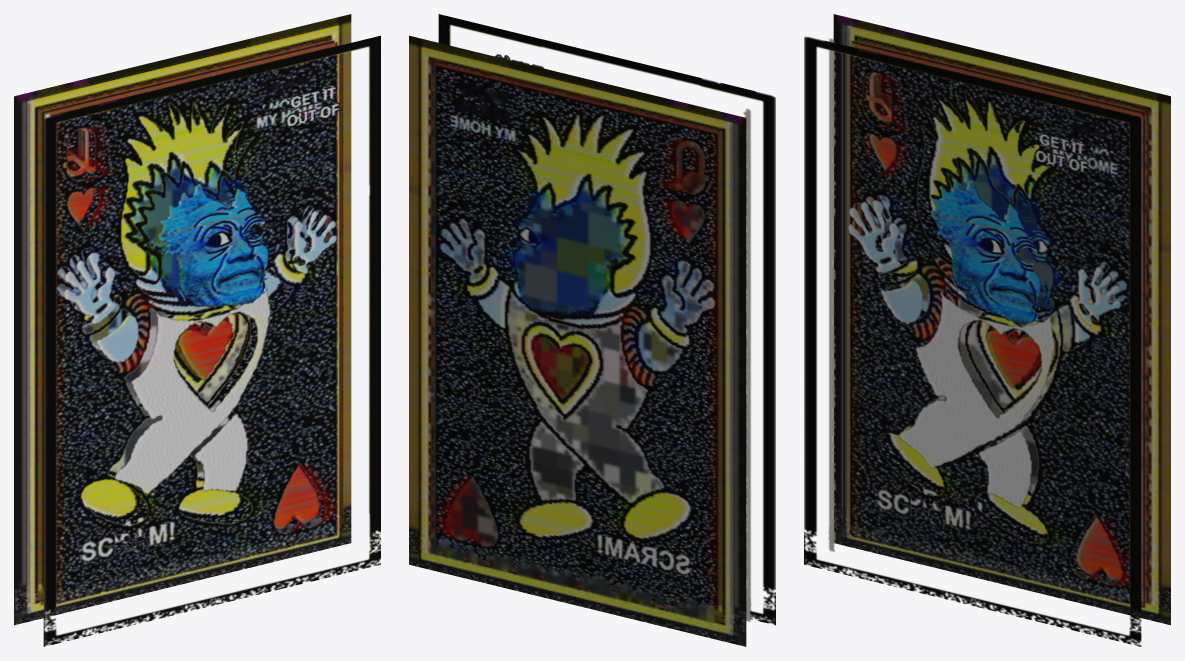
File: layers.glb
3 renders of one model, left to right at view 1: azimuth 30°, elevation 25°; view 2: azimuth 150°, elevation 25°; view 3: azimuth 330°, elevation 25°, orthographic.
Parts seen in each view (by area): view 1: 02_band1, 00_bg, 05_frame, 03_band2, 01_band0, 04_band3, 06_text; view 2: 00_bg, 05_frame, 03_band2; view 3: 02_band1, 00_bg, 03_band2, 05_frame, 01_band0, 04_band3, 06_text.
Part boxes in pixels (<box>): 02_band1: <box>50,44,343,603</box>; 00_bg: <box>14,14,351,625</box>; 05_frame: <box>43,35,380,646</box>; 03_band2: <box>44,113,337,625</box>; 01_band0: <box>40,40,338,605</box>; 04_band3: <box>158,183,268,307</box>; 06_text: <box>286,84,341,127</box>; 00_bg: <box>409,35,746,646</box>; 05_frame: <box>438,14,775,625</box>; 03_band2: <box>743,109,751,621</box>; 02_band1: <box>842,44,1138,603</box>; 00_bg: <box>833,14,1170,625</box>; 03_band2: <box>828,38,1121,551</box>; 05_frame: <box>804,36,1141,646</box>; 01_band0: <box>847,40,1146,608</box>; 04_band3: <box>930,180,1041,325</box>; 06_text: <box>1034,131,1090,173</box>.
Bounding box in the file's own units: 0.667 × 1 × 0.1215.
7 materials, 7 textured.
